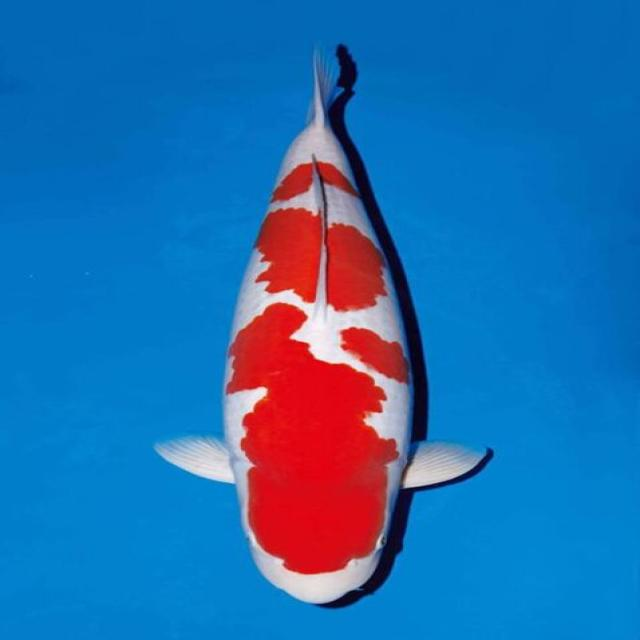Kohaku: (151, 42, 493, 608)
